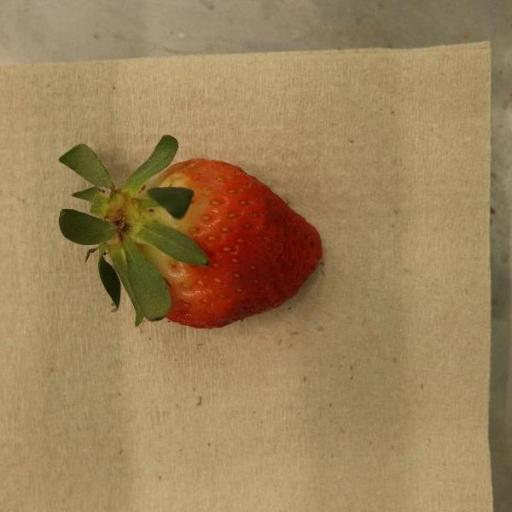Strawberry: (58, 135, 323, 329)
